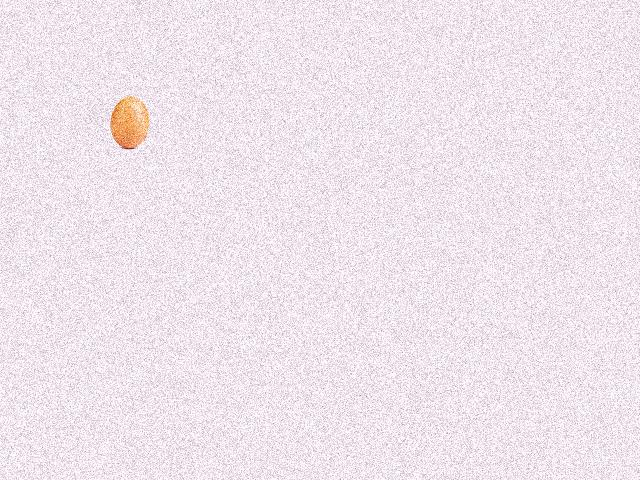egg: (110, 96, 148, 149)
